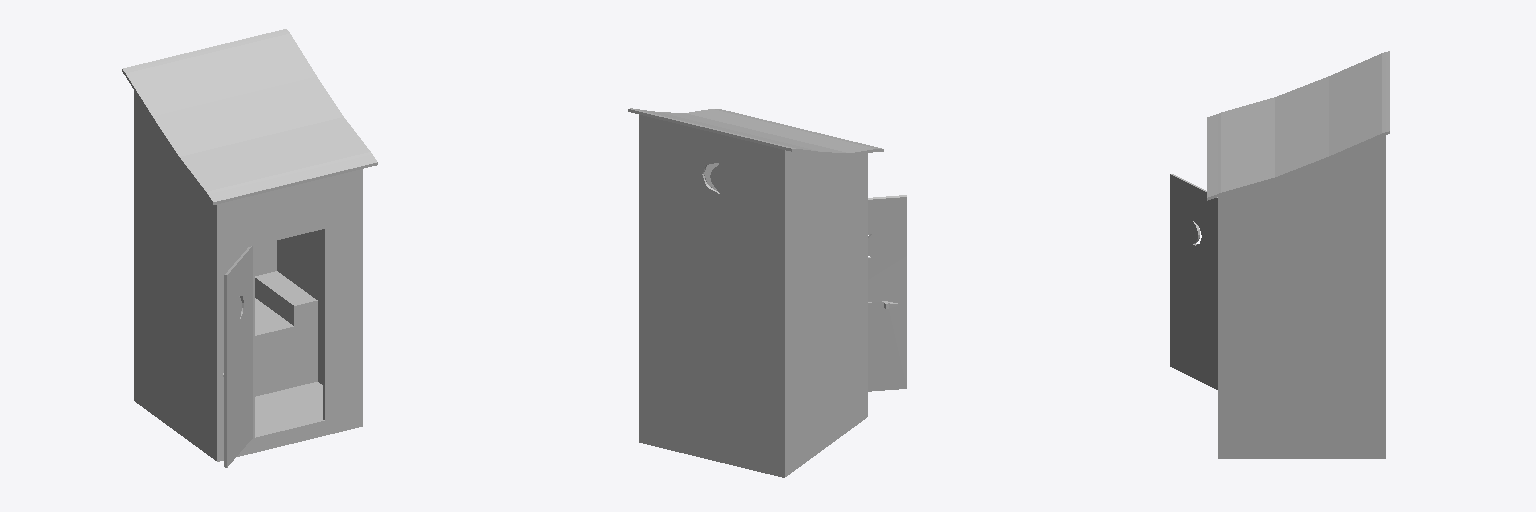
The model's file is bathroom.obj.
The picture shows the model from 3 angles: view 1: azimuth 30°, elevation 25°; view 2: azimuth 150°, elevation 25°; view 3: azimuth 270°, elevation 25°; orthographic projection.
Parts seen in each view (by area): view 1: bathroom; view 2: bathroom; view 3: bathroom.
Boxes of the visible parts, x1=… form: bathroom: x1=122, y1=29, x2=377, y2=467; bathroom: x1=628, y1=108, x2=906, y2=477; bathroom: x1=1170, y1=51, x2=1389, y2=458.
Size of the model in its own units: 1.15 by 2.14 by 1.28.